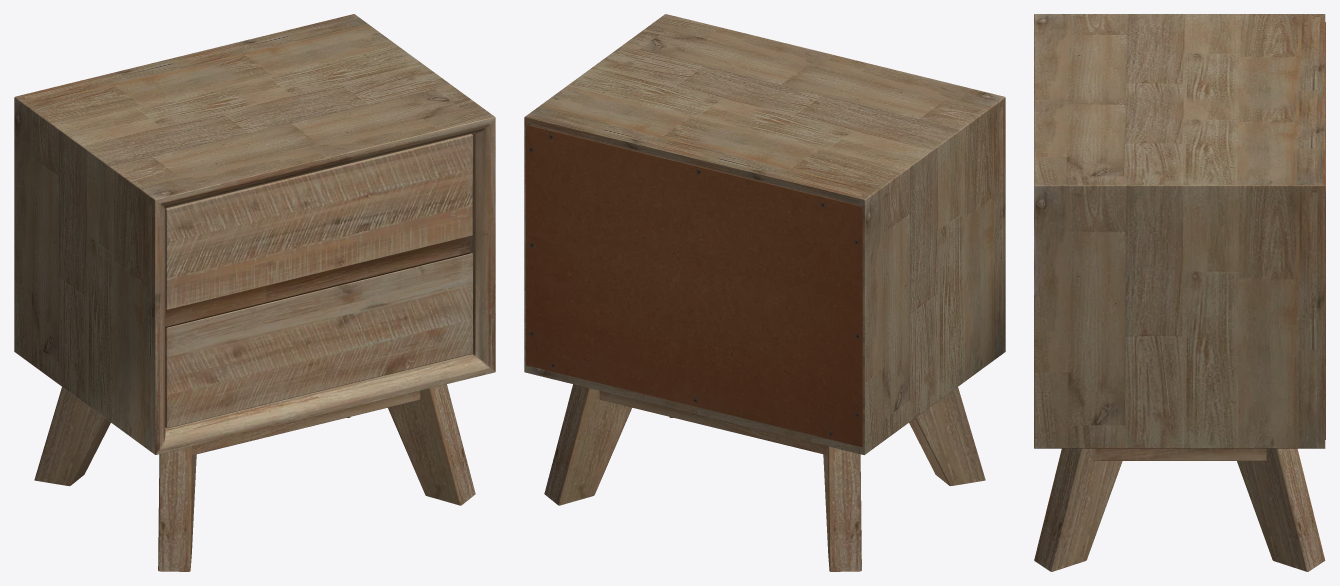
The model's file is nightstand_abo_B07HSH278Q.glb.
3 renders of one model, left to right at view 1: azimuth 30°, elevation 25°; view 2: azimuth 150°, elevation 25°; view 3: azimuth 270°, elevation 25°, orthographic. The views are drawn at different scales.
Visible parts, largest first — view 1: RootNode; view 2: RootNode; view 3: RootNode.
Boxes of the visible parts, x1,y1,x2,y2 form: RootNode: (14, 14, 495, 571); RootNode: (524, 14, 1005, 571); RootNode: (1034, 14, 1325, 571).
Bounding box in the file's own units: 0.5518 × 0.5889 × 0.3962.
1 material, 1 textured.
